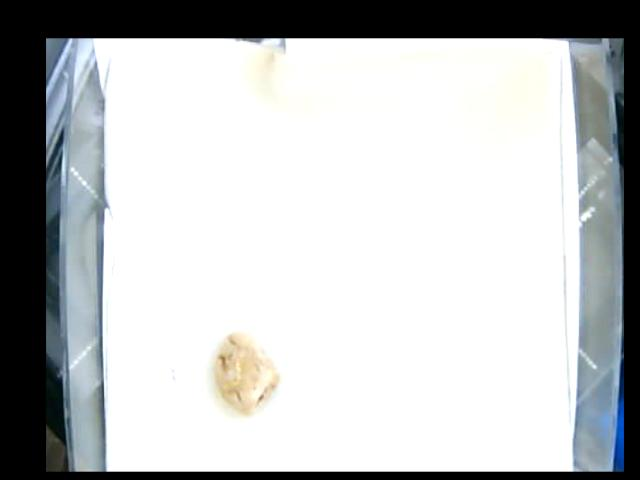Pebble: (214, 328, 279, 414)
